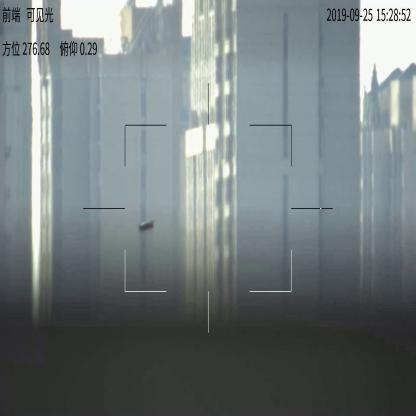uav: (137, 218, 154, 232)
